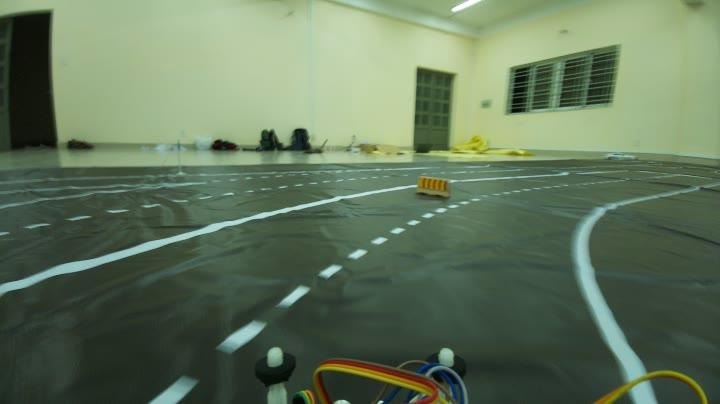roadblock: (407, 172, 461, 202)
